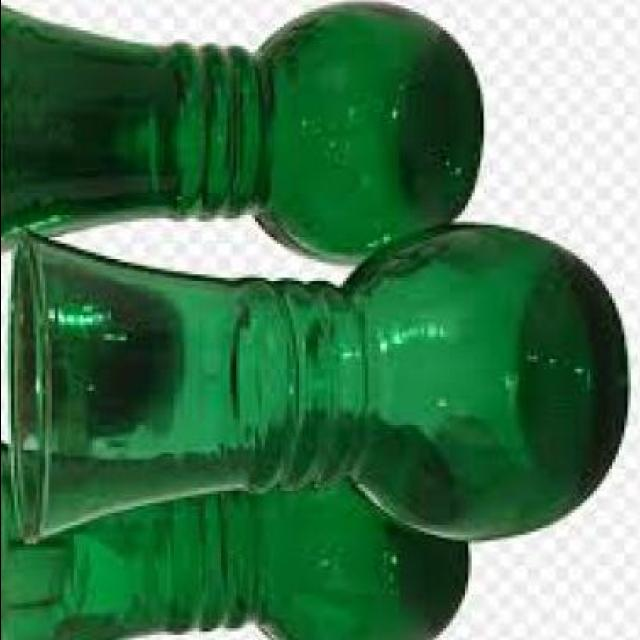kaca: (5, 225, 625, 550), (0, 0, 476, 271), (0, 437, 467, 640)
